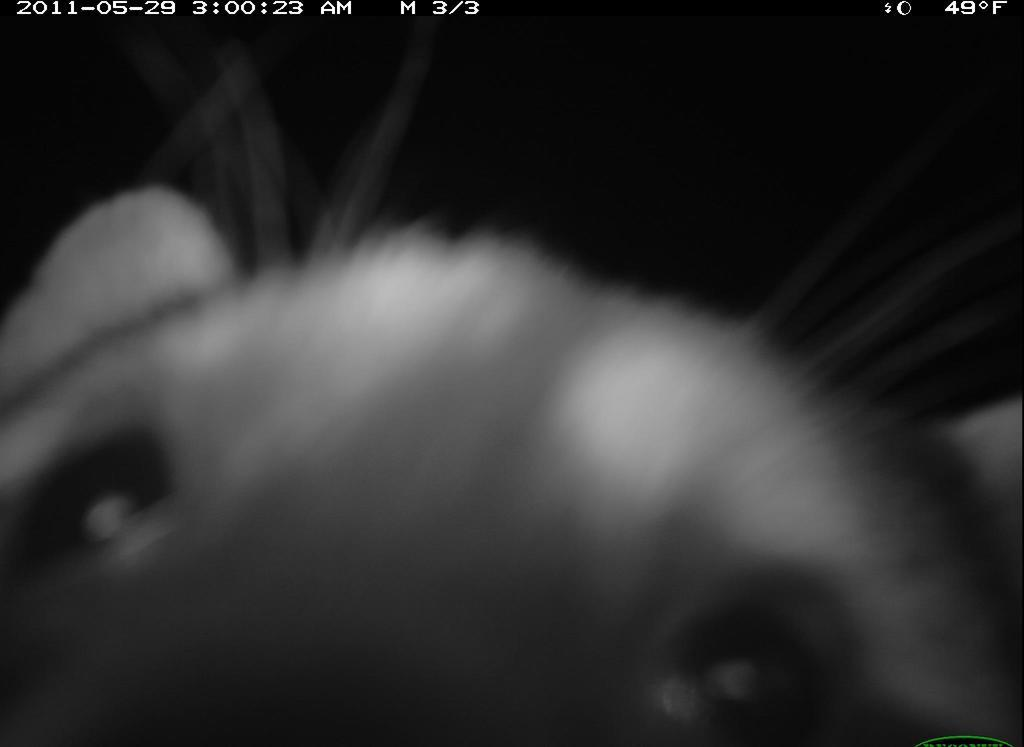raccoon: (7, 164, 1024, 747)
